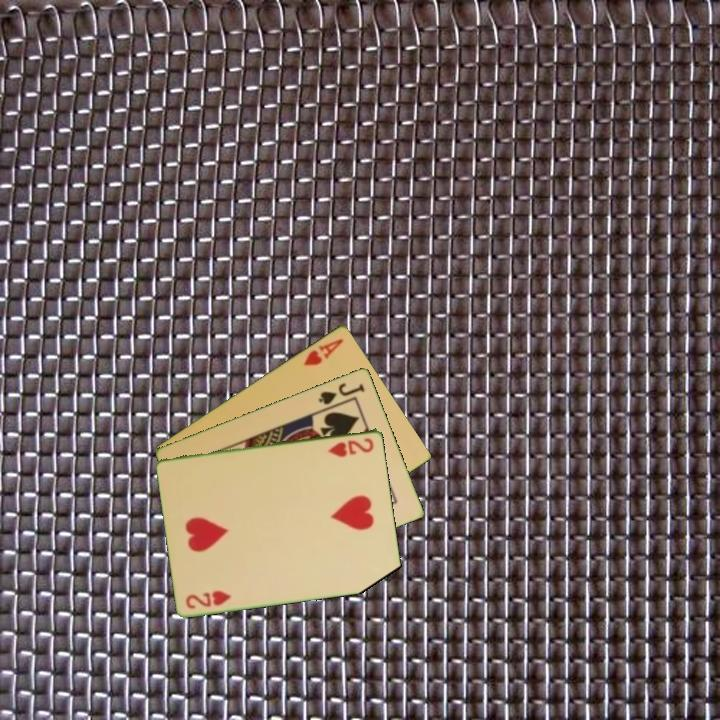2h: (182, 586, 235, 611), (325, 434, 377, 459)
Ah: (300, 334, 346, 368)
Js: (315, 379, 368, 407)
